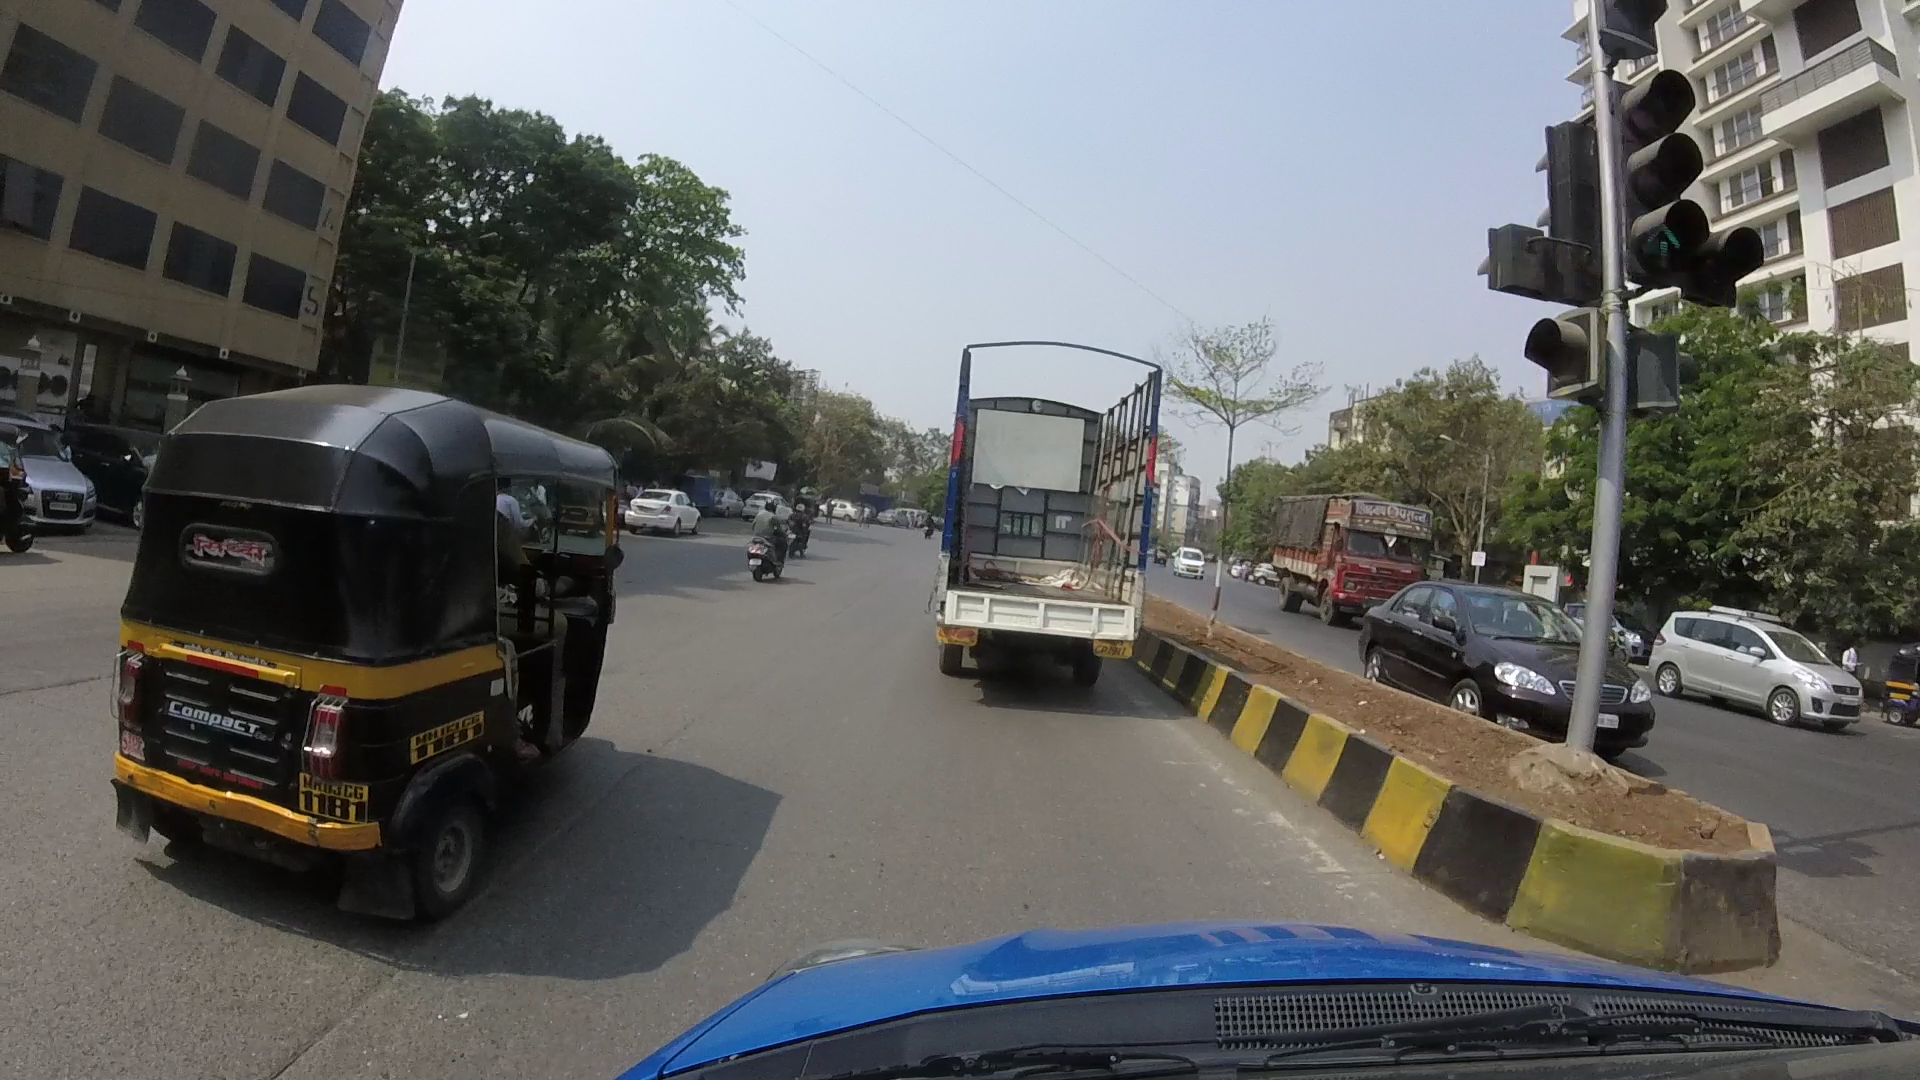bike/scooter: (735, 489, 785, 583)
car: (1361, 568, 1646, 736), (1652, 611, 1861, 724), (616, 480, 705, 533)
rickshaw: (135, 375, 646, 927)
truck: (945, 339, 1158, 698), (1269, 489, 1431, 618)
